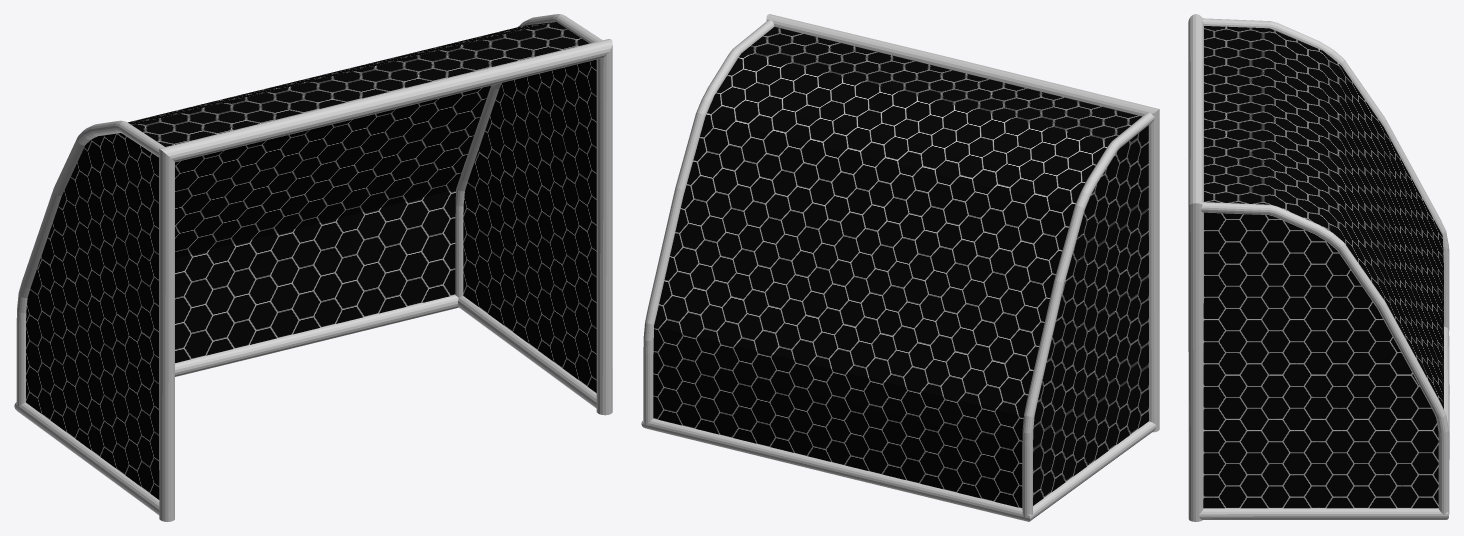
Rendered from football_goal.glb.
3 renders of one model, left to right at view 1: azimuth 30°, elevation 25°; view 2: azimuth 150°, elevation 25°; view 3: azimuth 270°, elevation 25°, orthographic. The views are drawn at different scales.
Parts seen in each view (by area): view 1: Object_3, Object_2; view 2: Object_3, Object_2; view 3: Object_3, Object_2.
Boxes of the visible parts, x1,y1,x2,y2 form: Object_3: (26,22,596,499); Object_2: (14,14,612,521); Object_3: (653,27,1148,508); Object_2: (641,14,1159,521); Object_3: (1203,26,1443,508); Object_2: (1188,14,1449,521).
Size of the model in its own units: 152 by 120 by 88.98.
2 materials, 1 textured.
